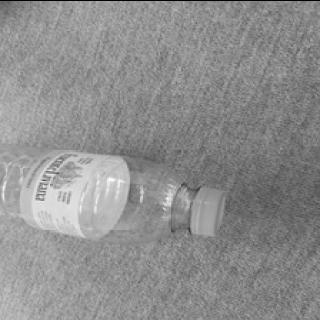plastic_bottles: (0, 142, 226, 238)
